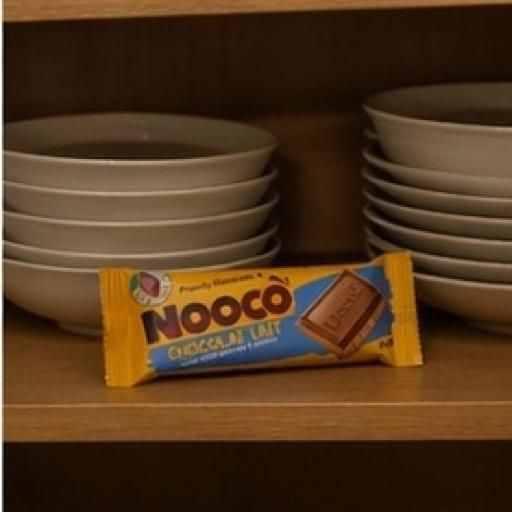nooco: (69, 246, 461, 399)
